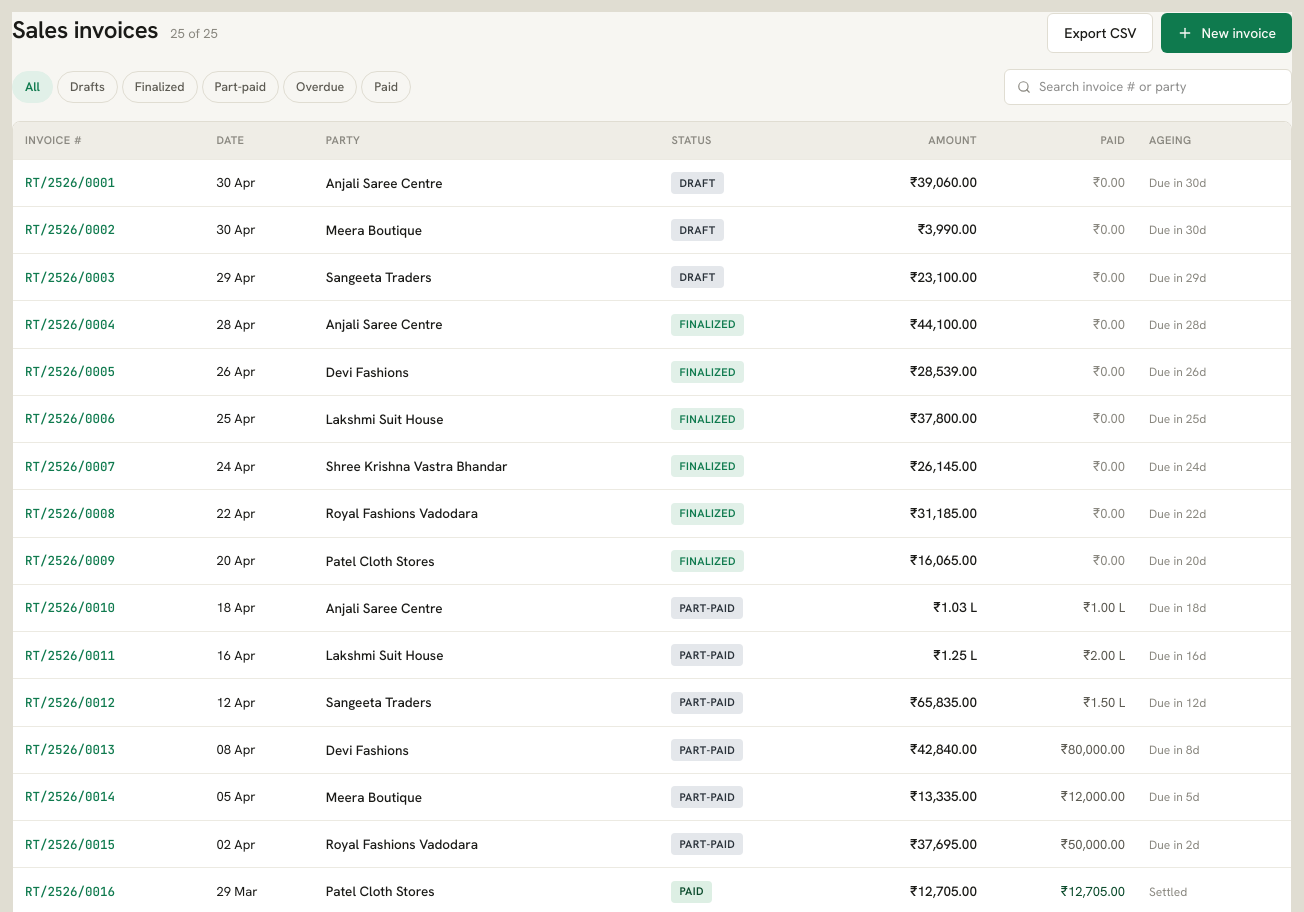
it: InvoiceList — Export CSV (TASK-CUT-403) › clicking Export CSV in mock mode surfaces a clear "live backend" hint
Expected: the link "RT/2526/0001" is shown, [25, 174, 115, 191]
Click the button with aria-label "export invoices to CSV" at (1100, 33), box [1047, 13, 1154, 53]
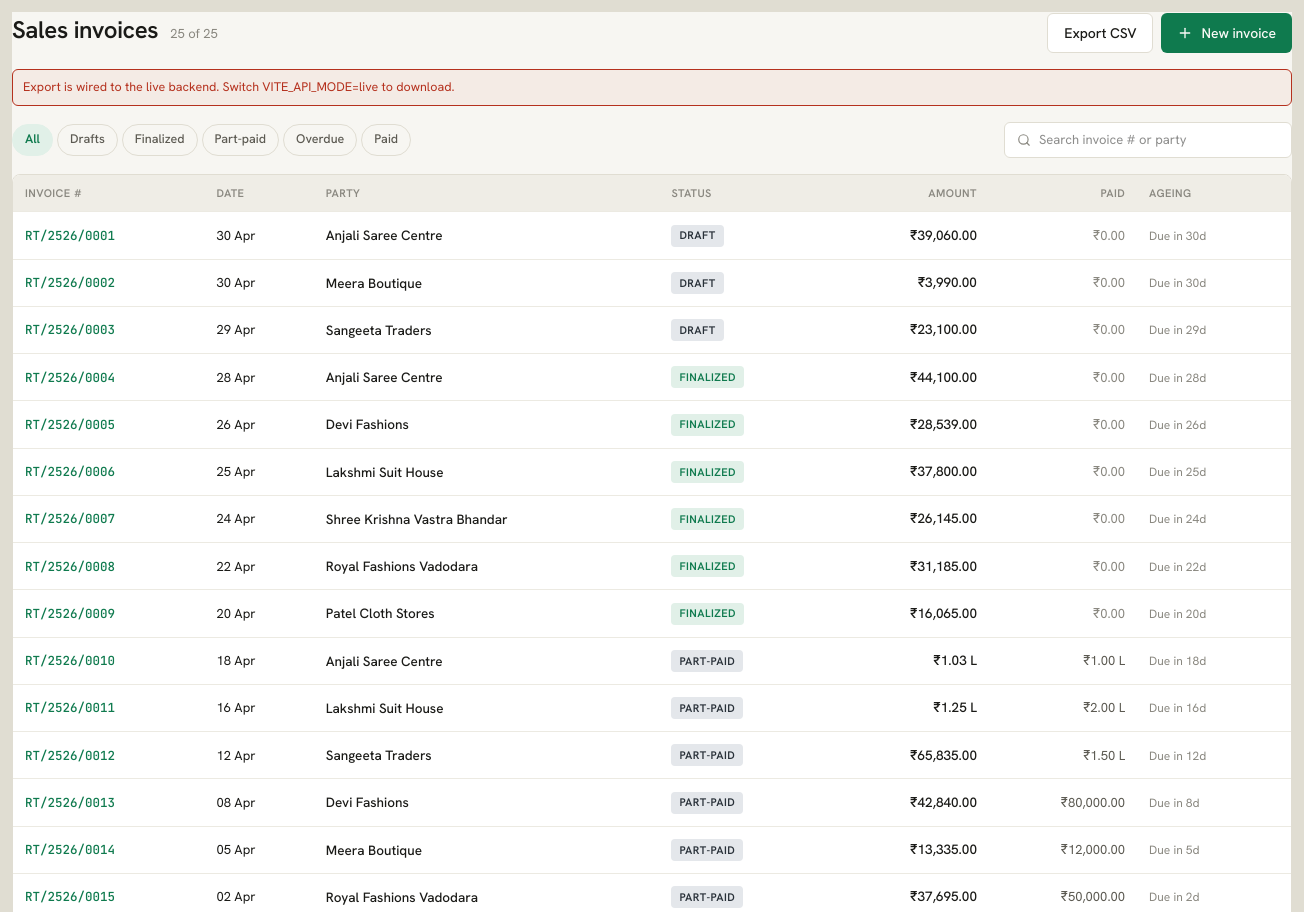
Now the message shows "live backend", box [23, 78, 454, 95]
